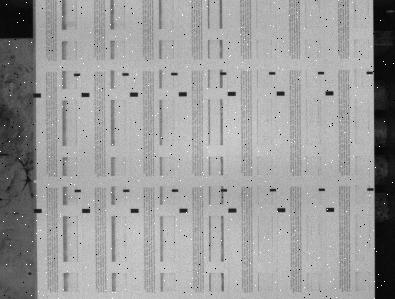backgroundclutter: (28, 273, 32, 276)
qblock: (130, 92, 139, 97), (179, 92, 187, 97), (34, 209, 42, 214), (326, 91, 334, 96), (277, 91, 285, 96), (131, 209, 139, 214), (278, 208, 286, 213), (82, 209, 90, 214), (33, 93, 41, 98), (327, 208, 335, 213), (81, 93, 90, 97), (180, 209, 188, 213), (228, 92, 236, 96), (229, 209, 237, 213)
smallqblock: (172, 189, 179, 193), (367, 71, 374, 75), (220, 72, 227, 76), (221, 189, 228, 193), (74, 73, 80, 77), (171, 73, 178, 76), (269, 72, 276, 75), (123, 190, 130, 193), (270, 189, 277, 192), (74, 190, 81, 193), (318, 72, 325, 75), (319, 189, 326, 192), (368, 188, 375, 191), (123, 73, 129, 76)
